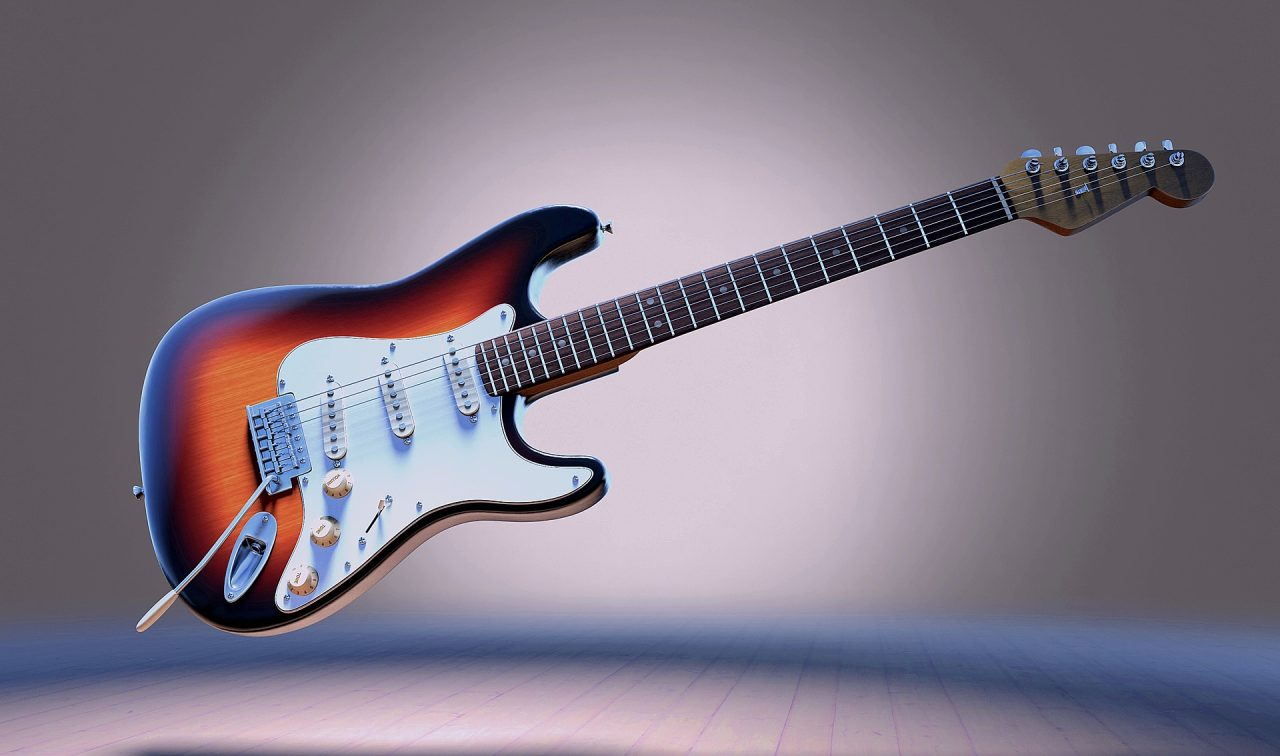guitar: (128, 130, 1262, 639)
